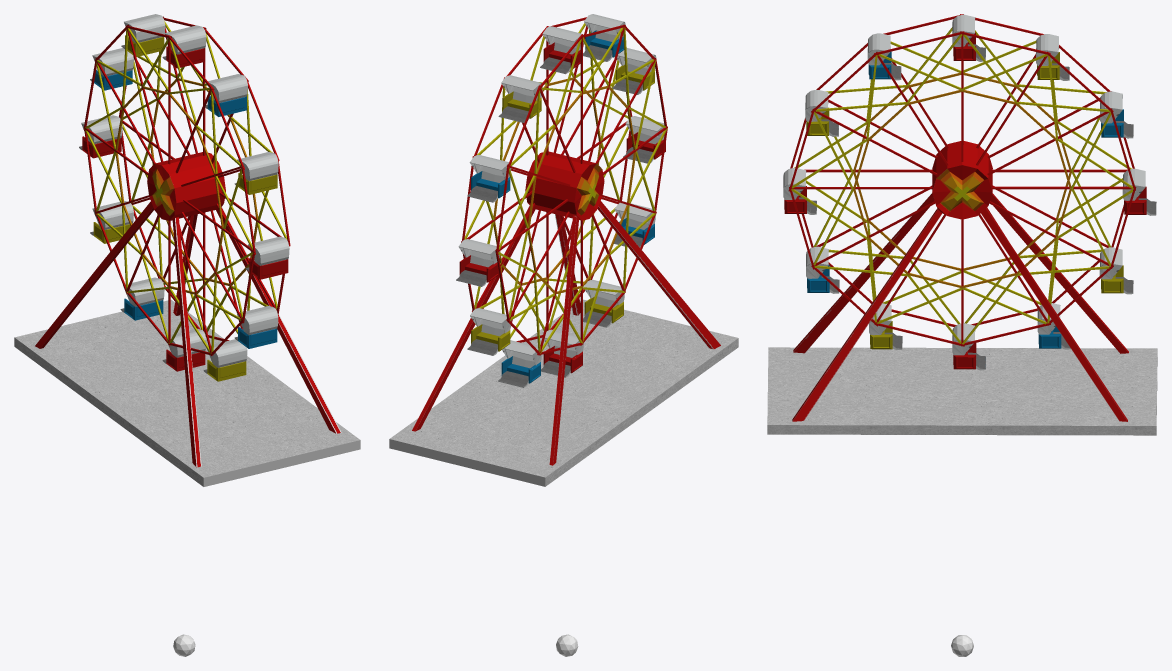
File: FerrisWheel.fbx
The picture shows the model from 3 angles, left to right: view 1: azimuth 30°, elevation 25°; view 2: azimuth 150°, elevation 25°; view 3: azimuth 270°, elevation 25°; orthographic projection.
Visible parts, largest first — view 1: pCube151_lambert1_0.001, pCylinder97_lambert1_0.001, Seat23_UnUsed_0.001, Seat22_UnUsed_0.001, Seat21_UnUsed_0.001, Seat24_UnUsed_0.001, Seat20_UnUsed_0.001, Seat19_UnUsed_0.001, Seat14_UnUsed_0.001, Seat18_UnUsed_0.001, Seat17_UnUsed_0.001, Seat16_UnUsed_0.001 (+10 smaller); view 2: pCube151_lambert1_0.001, pCylinder97_lambert1_0.001, Seat15_UnUsed_0.001, Seat16_UnUsed_0.001, Seat17_UnUsed_0.001, Seat14_UnUsed_0.001, Seat18_UnUsed_0.001, Seat19_UnUsed_0.001, Seat24_UnUsed_0.001, Seat20_UnUsed_0.001, Seat21_UnUsed_0.001, Seat13_UnUsed_0.001 (+8 smaller); view 3: pCube151_lambert1_0.001, pCylinder97_lambert1_0.001, Seat15_UnUsed_0.001, Seat13_UnUsed_0.001, Seat16_UnUsed_0.001, Seat20_UnUsed_0.001, Seat17_UnUsed_0.001, Seat19_UnUsed_0.001, Seat21_UnUsed_0.001, Seat18_UnUsed_0.001, Seat23_UnUsed_0.001, Seat22_UnUsed_0.001 (+11 smaller).
Boxes of the visible parts, x1,y1,x2,y2 form: pCube151_lambert1_0.001: (14,299,360,486); pCylinder97_lambert1_0.001: (35,152,341,467); Seat23_UnUsed_0.001: (234,306,278,348); Seat22_UnUsed_0.001: (245,236,289,279); Seat21_UnUsed_0.001: (234,152,278,194); Seat24_UnUsed_0.001: (203,339,247,381); Seat20_UnUsed_0.001: (205,74,247,116); Seat19_UnUsed_0.001: (162,25,206,68); Seat14_UnUsed_0.001: (120,277,164,320); Seat18_UnUsed_0.001: (121,14,165,56); Seat17_UnUsed_0.001: (90,48,133,90); Seat16_UnUsed_0.001: (79,115,122,158); pCube151_lambert1_0.001: (389,299,738,486); pCylinder97_lambert1_0.001: (412,151,720,465); Seat15_UnUsed_0.001: (467,308,511,355); Seat16_UnUsed_0.001: (456,239,499,286); Seat17_UnUsed_0.001: (467,155,511,202); Seat14_UnUsed_0.001: (498,340,541,387); Seat18_UnUsed_0.001: (498,75,542,122); Seat19_UnUsed_0.001: (540,26,583,74); Seat24_UnUsed_0.001: (583,279,624,327); Seat20_UnUsed_0.001: (583,14,625,61); Seat21_UnUsed_0.001: (612,48,656,94); Seat13_UnUsed_0.001: (541,329,583,377); pCube151_lambert1_0.001: (767,347,1157,435); pCylinder97_lambert1_0.001: (792,141,1128,421); Seat15_UnUsed_0.001: (1099,247,1133,294); Seat13_UnUsed_0.001: (952,323,985,370); Seat16_UnUsed_0.001: (1122,168,1156,215); Seat20_UnUsed_0.001: (867,33,901,80); Seat17_UnUsed_0.001: (1100,91,1133,138); Seat19_UnUsed_0.001: (952,14,985,61); Seat21_UnUsed_0.001: (805,89,838,136); Seat18_UnUsed_0.001: (1036,34,1069,80); Seat23_UnUsed_0.001: (806,246,839,293); Seat22_UnUsed_0.001: (783,168,816,214).
Size of the model in its own units: 1600 by 6027 by 3357.
